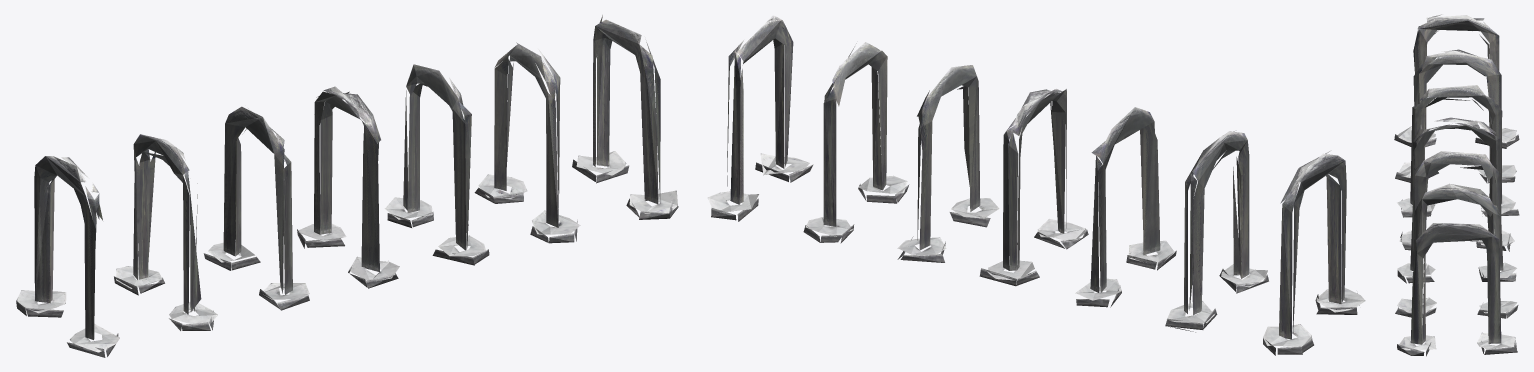
File: cycle_stand.glb
3 views of the same model, side by side, from view 1: azimuth 30°, elevation 25°; view 2: azimuth 150°, elevation 25°; view 3: azimuth 270°, elevation 25° (orthographic). The views are drawn at different scales.
Parts seen in each view (by area): view 1: world.625; view 2: world.625; view 3: world.625.
Boxes of the visible parts, x1=… form: world.625: x1=16, y1=15, x2=678, y2=357; world.625: x1=707, y1=15, x2=1365, y2=355; world.625: x1=1394, y1=14, x2=1519, y2=356.
Bounding box in the file's own units: 1.01 × 0.2771 × 0.2376.
Materials: 1 (1 with a texture image).
